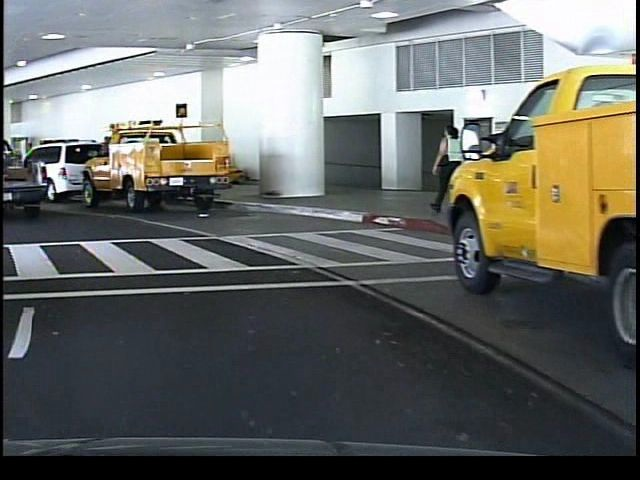person: (425, 118, 462, 221)
